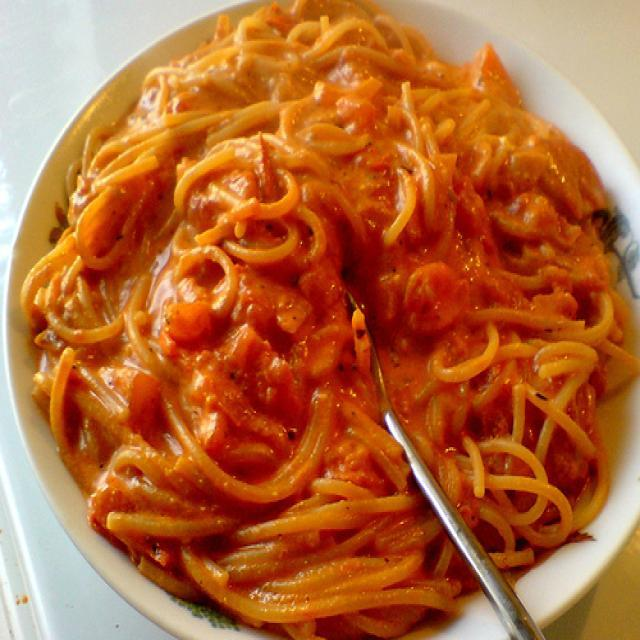Pasta: (14, 10, 620, 611)
